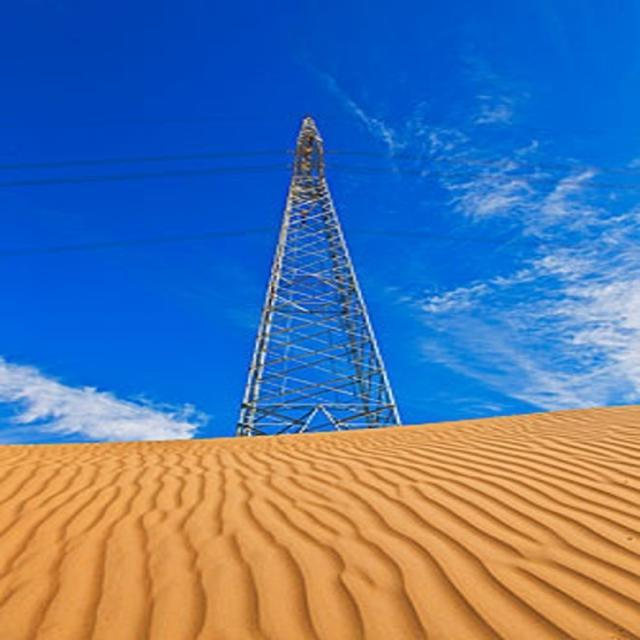non-critical vegetation: (238, 111, 404, 433)
